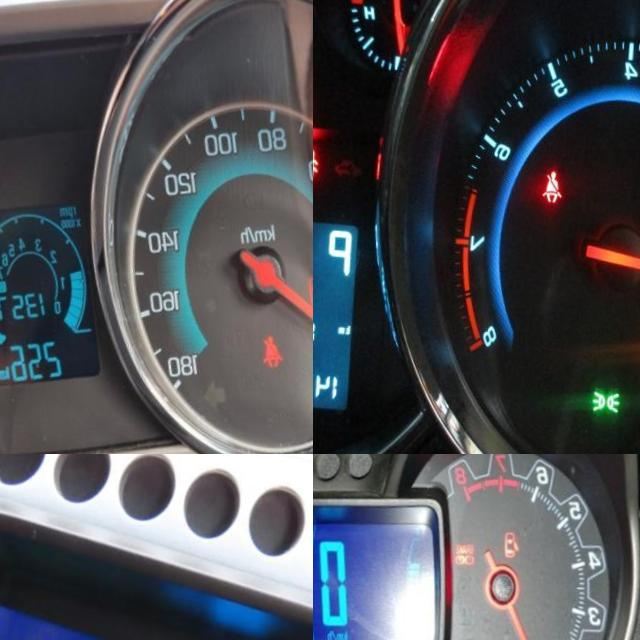Doors: (508, 525, 525, 552), (313, 145, 323, 182)
SideLamp: (599, 385, 628, 409)
